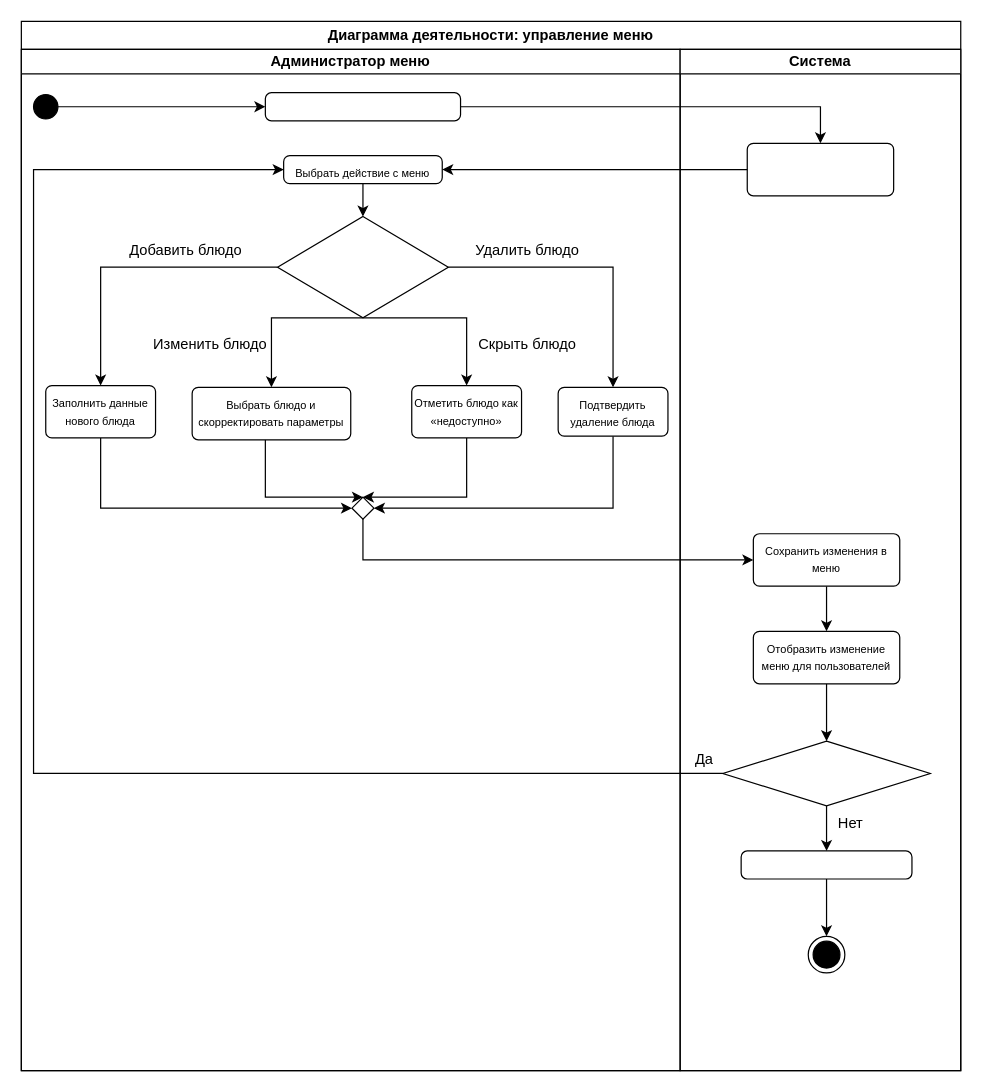
Image size: 982x1092. Some labels were removed from this diagram. The box of each missing label's shape, as (x1, y1, x2, y2) in pixels:
Войти в панель управления меню: (264, 92, 461, 121)
Выйти из панели управления: (740, 850, 912, 879)
Есть еще изменения?: (722, 740, 930, 806)
Какое действие выбрано?: (276, 215, 448, 318)
Проверить права доступа и открыть панель: (746, 142, 894, 196)
